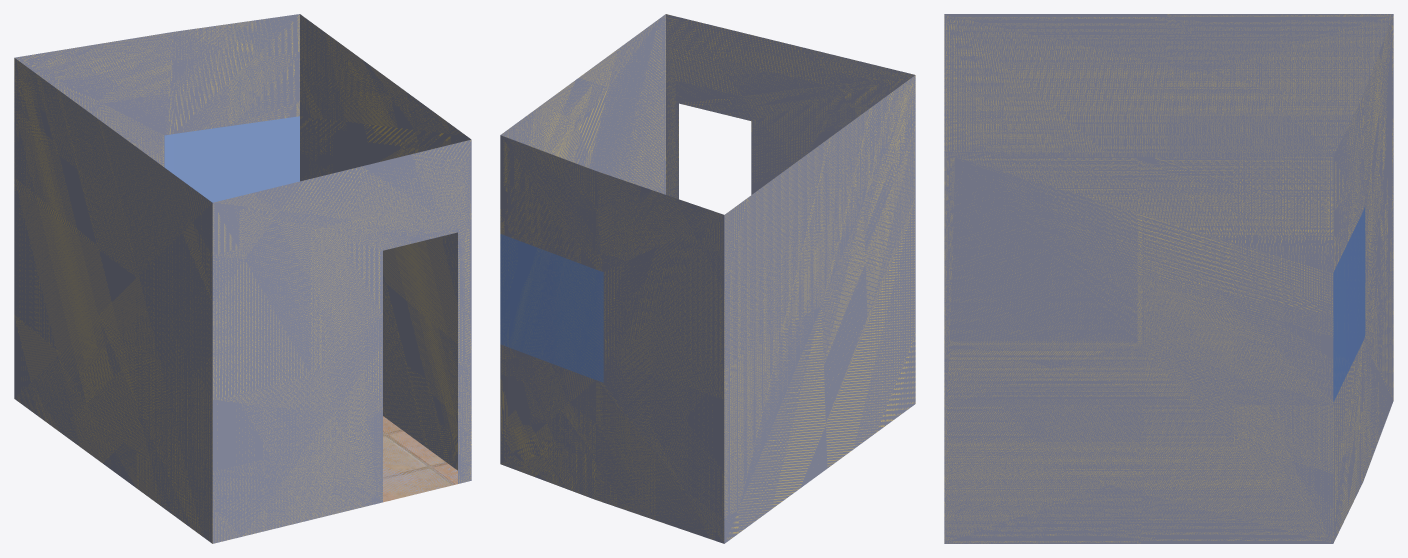
The model's file is LAB023.obj.
The picture shows the model from 3 angles, left to right: view 1: azimuth 30°, elevation 25°; view 2: azimuth 150°, elevation 25°; view 3: azimuth 270°, elevation 25°; orthographic projection. The views are drawn at different scales.
Visible parts, largest first — view 1: Mesh1 DES023 Model; view 2: Mesh1 DES023 Model; view 3: Mesh1 DES023 Model.
Boxes of the visible parts, x1,y1,x2,y2 form: Mesh1 DES023 Model: (14,14,471,543); Mesh1 DES023 Model: (500,14,915,543); Mesh1 DES023 Model: (944,14,1393,543).
Bounding box in the file's own units: 2.39 × 3 × 3.16.
4 materials, 1 textured.
